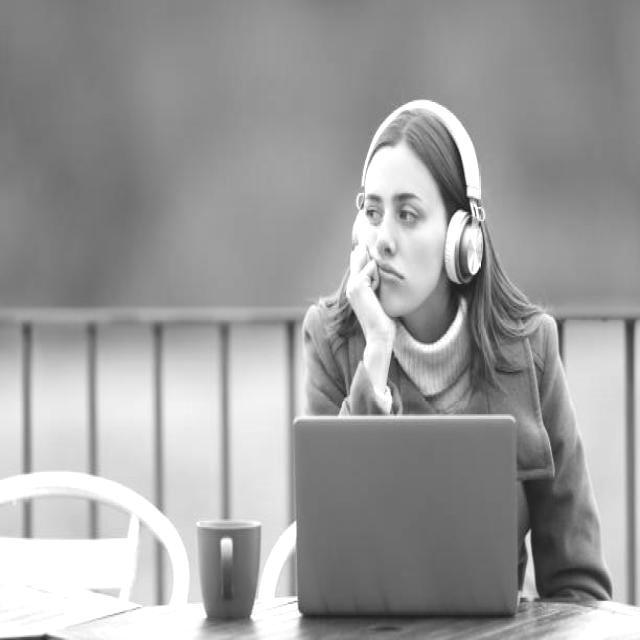Looking away: (360, 146, 446, 316)
